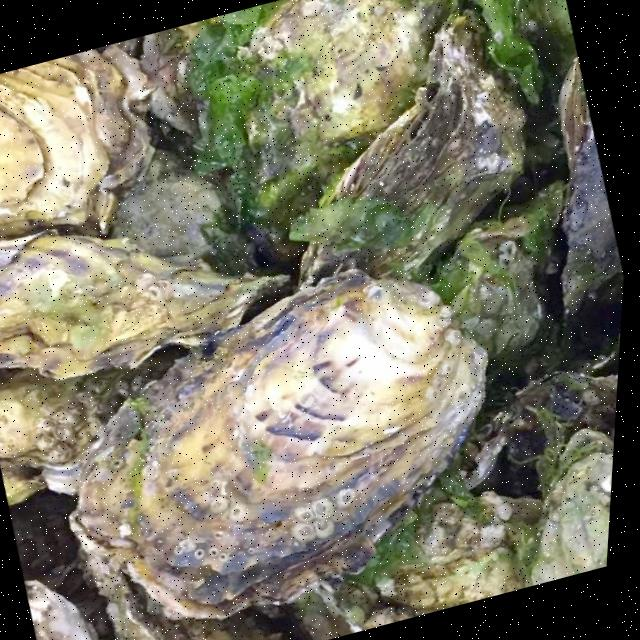Oyster-Closed: (301, 10, 524, 286), (351, 491, 545, 607), (79, 552, 283, 640)
Oyster-Indeterminate: (69, 266, 487, 621), (203, 0, 465, 259), (0, 230, 294, 379), (0, 344, 199, 507), (0, 42, 149, 239), (435, 182, 578, 386), (120, 0, 286, 130), (118, 152, 260, 272), (558, 60, 617, 315), (529, 429, 614, 586), (508, 375, 618, 464), (27, 581, 96, 640)
